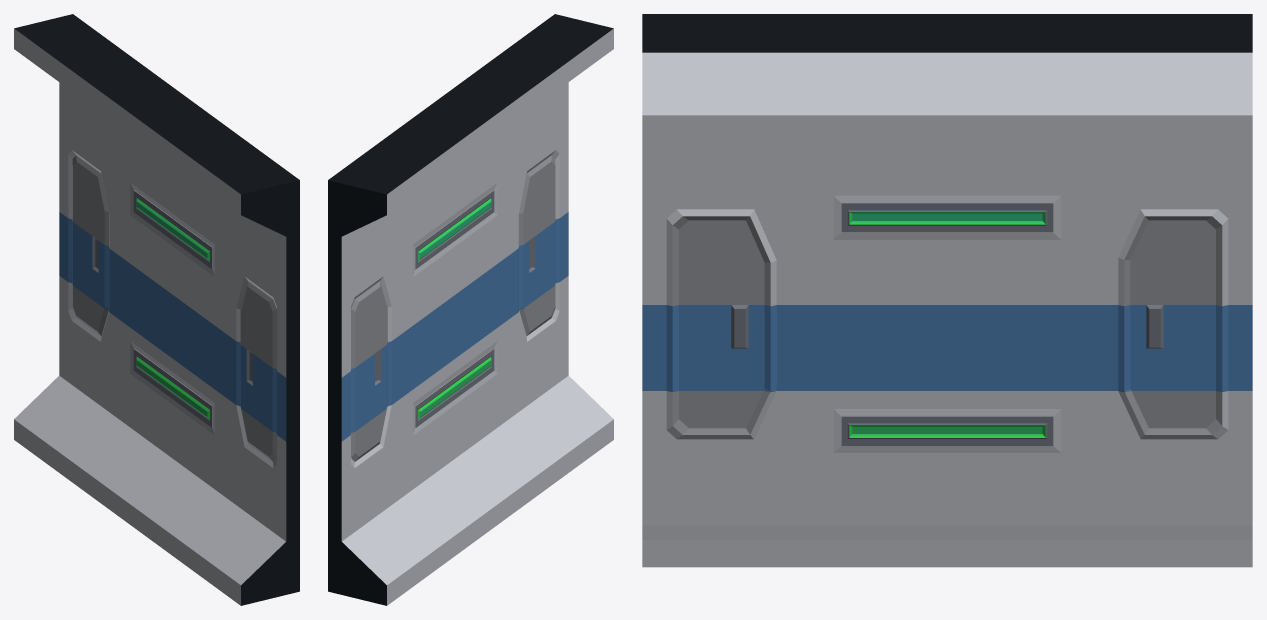
Rendered from sm_Wall_Straight_A_06.fbx.
3 views of the same model, side by side, from view 1: azimuth 30°, elevation 25°; view 2: azimuth 150°, elevation 25°; view 3: azimuth 270°, elevation 25° (orthographic). The views are drawn at different scales.
Visible parts, largest first — view 1: Wall_Straight_A_06; view 2: Wall_Straight_A_06; view 3: Wall_Straight_A_06.
Boxes of the visible parts, x1=… form: Wall_Straight_A_06: x1=14, y1=14, x2=299, y2=605; Wall_Straight_A_06: x1=328, y1=14, x2=613, y2=605; Wall_Straight_A_06: x1=642, y1=14, x2=1252, y2=567.
Bounding box in the file's own units: 200 × 200 × 30.
